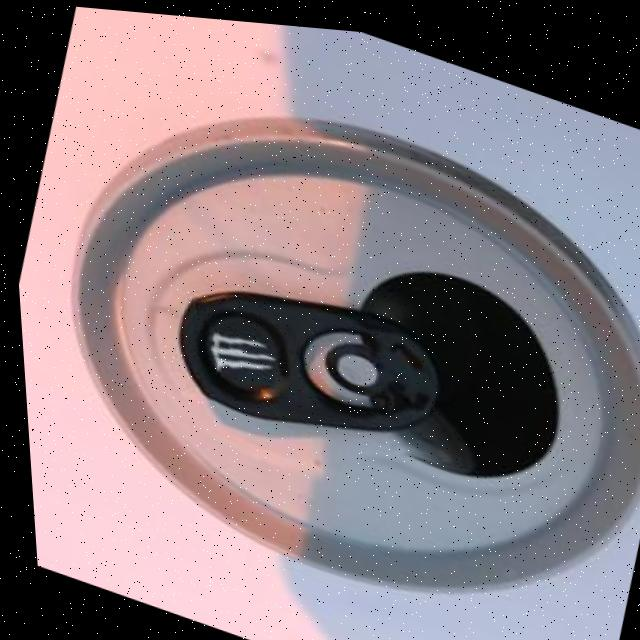metal: (1, 14, 640, 640)
